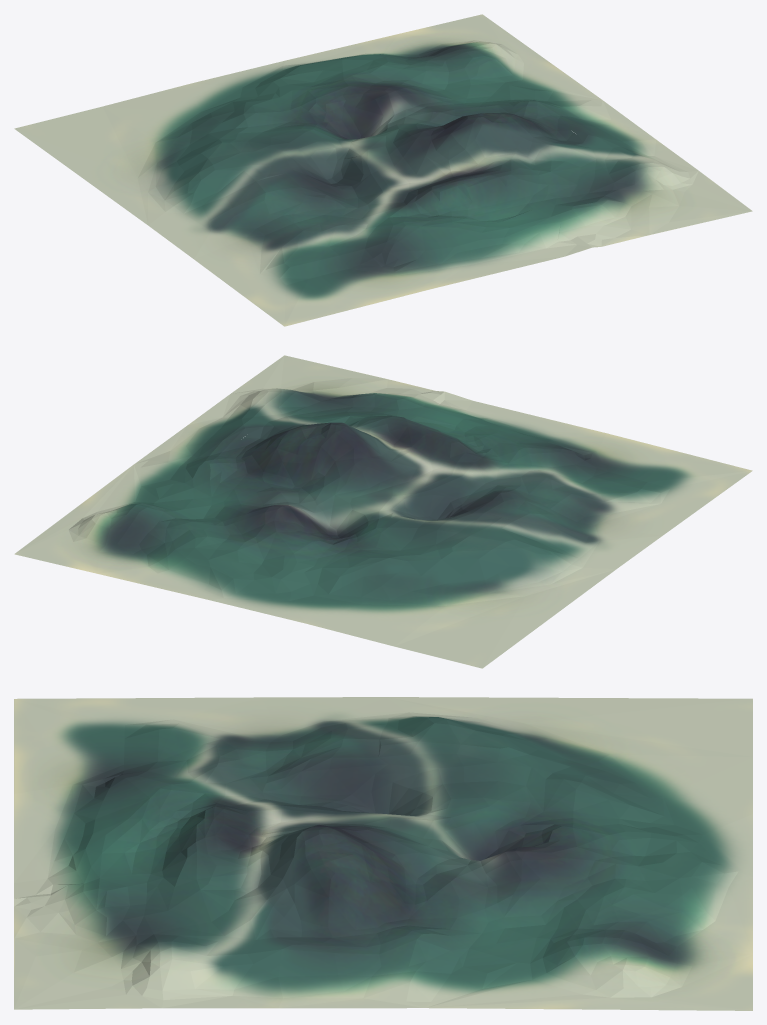
File: landscape7.fbx
3 renders of one model, top to bottom at view 1: azimuth 30°, elevation 25°; view 2: azimuth 150°, elevation 25°; view 3: azimuth 270°, elevation 25°, orthographic. The views are drawn at different scales.
Parts seen in each view (by area): view 1: Plane; view 2: Plane; view 3: Plane.
Boxes of the visible parts, box(x1,y1,x2,y2) form: Plane: box(14, 14, 752, 326); Plane: box(14, 355, 752, 668); Plane: box(14, 697, 752, 1010).
Bounding box in the file's own units: 32000 × 3453 × 32000.
